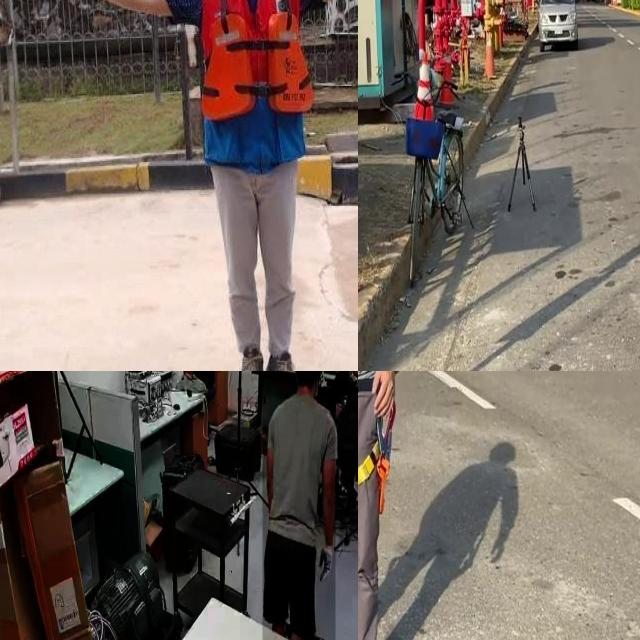Harness: (358, 412, 396, 514)
boots: (264, 347, 307, 371), (232, 341, 266, 371)
person: (43, 0, 358, 371), (262, 371, 335, 640), (336, 371, 358, 412)
vest: (199, 0, 314, 164)
